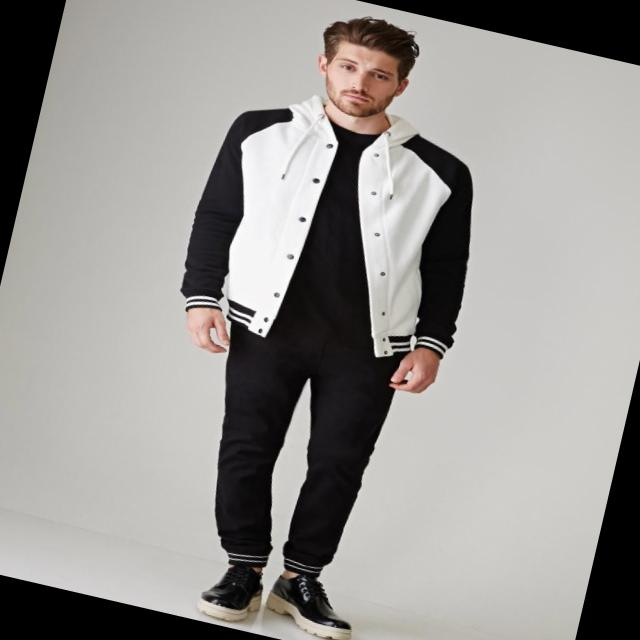Jacket: (171, 86, 508, 374)
